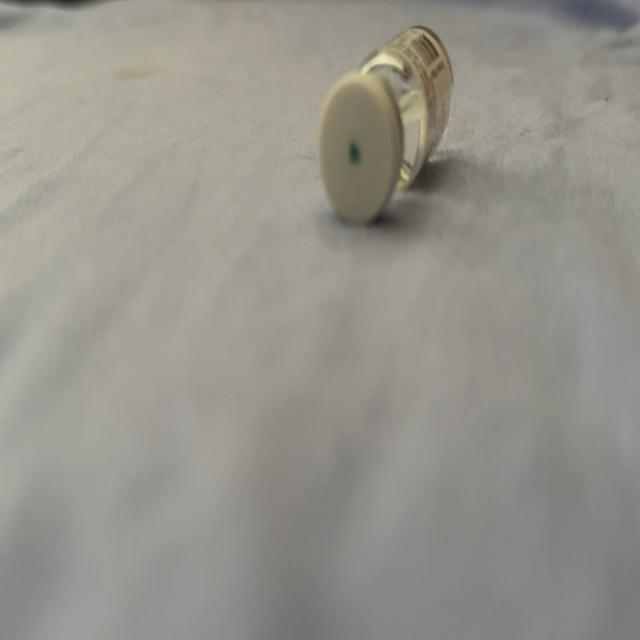fentanl_citrat: (318, 29, 452, 223)
